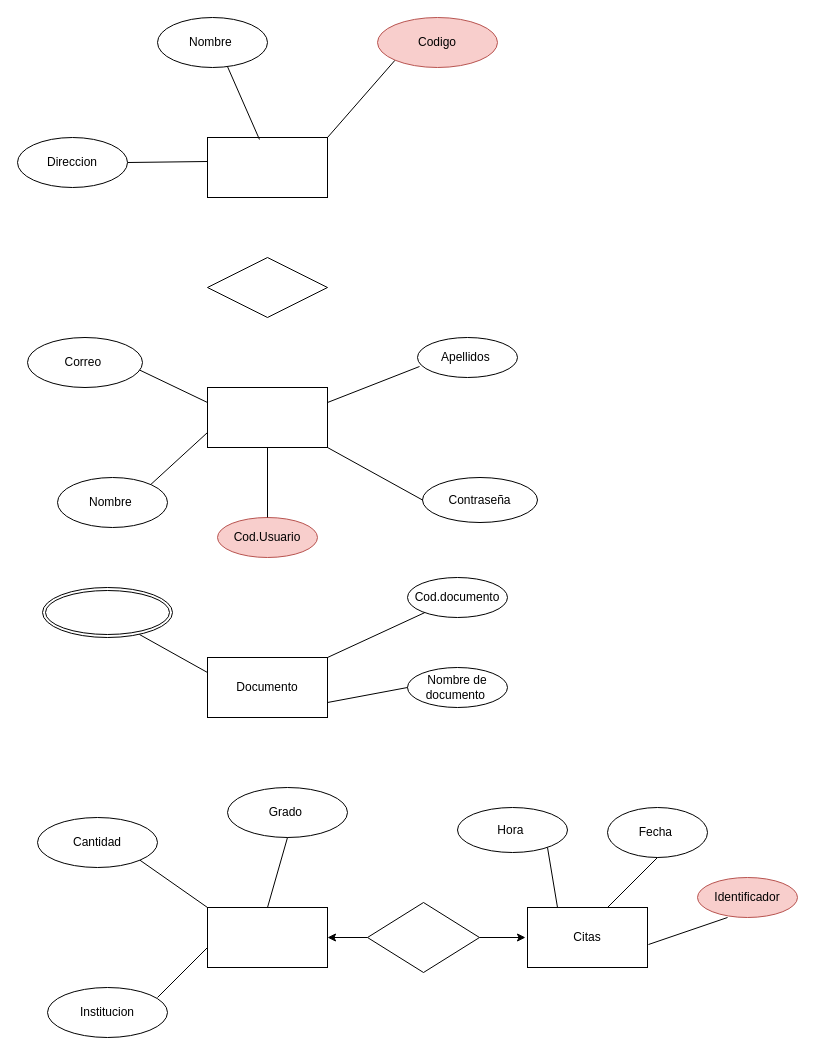
Some shapes in this 815 by 1055 pixel diagram are drawn without their labels. The shapes that lost their labels are listed below. From the top down, each one's centre as x and y in pixels, then its label:
point 267,167: Instituciones
point 267,287: Relationship
point 267,417: Usuarios
point 107,612: Tipo de documento
point 267,937: Cupos
point 423,937: Asignar
